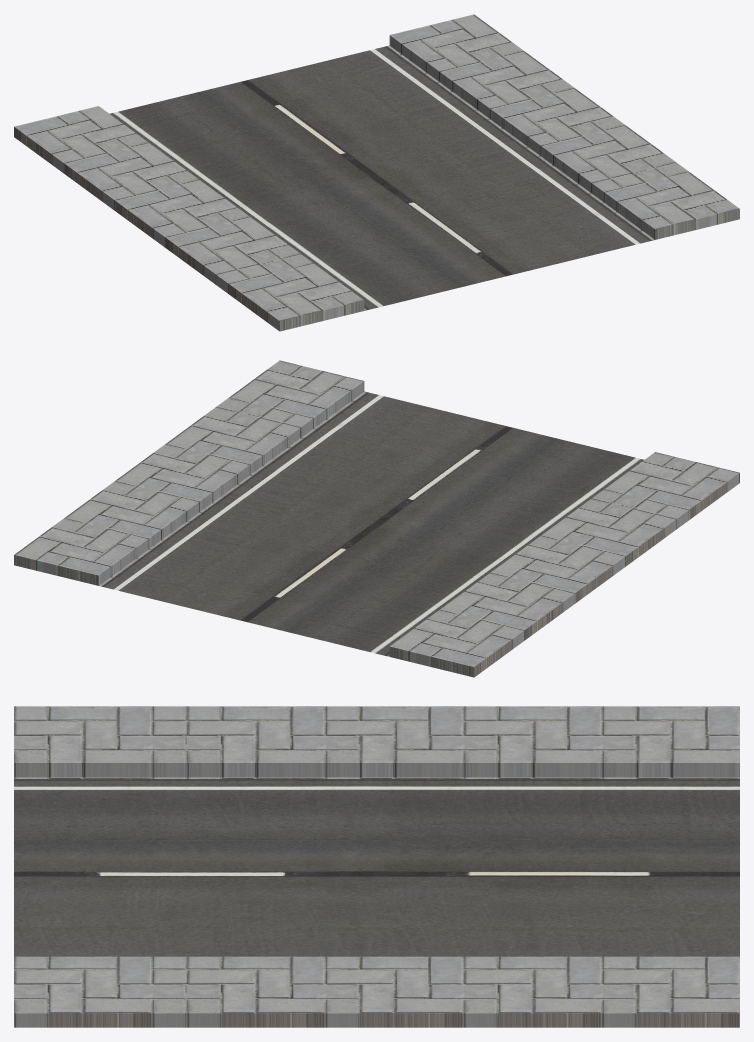
Rendered from road1.obj.
The picture shows the model from 3 angles, top to bottom: view 1: azimuth 30°, elevation 25°; view 2: azimuth 150°, elevation 25°; view 3: azimuth 270°, elevation 25°; orthographic projection. The views are drawn at different scales.
Parts seen in each view (by area): view 1: Plane01; view 2: Plane01; view 3: Plane01.
Boxes of the visible parts, bbox=[...] form: Plane01: bbox=[14, 14, 739, 331]; Plane01: bbox=[14, 360, 739, 677]; Plane01: bbox=[14, 706, 739, 1027].
Size of the model in its own units: 1024 by 22.13 by 1024.
